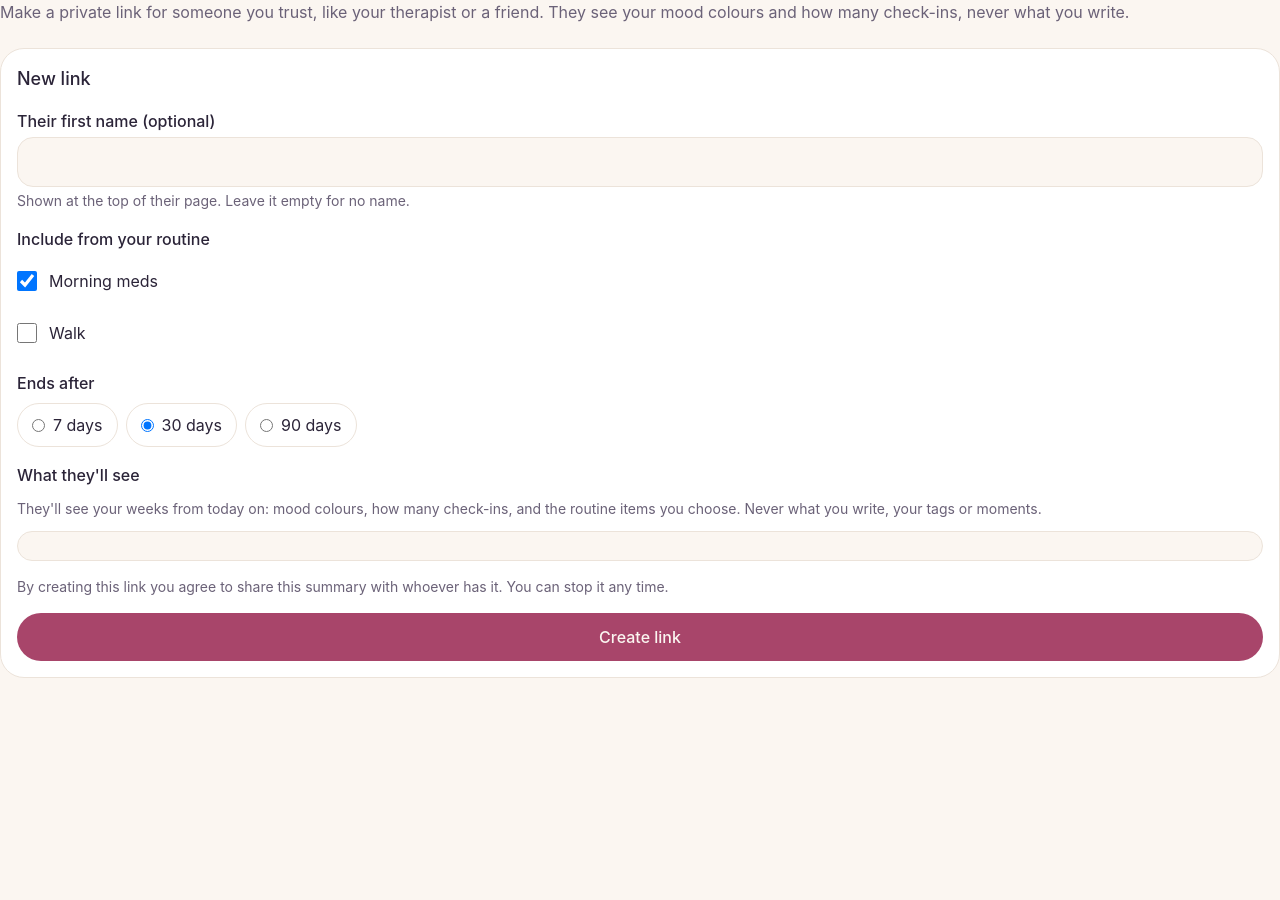
Scenario: Me → Share your week › the limit reached at create time says so
This screenshot has width=1280, height=900.
Click the button with test id "share-create".
click(640, 637)  # box [17,613,1263,661]
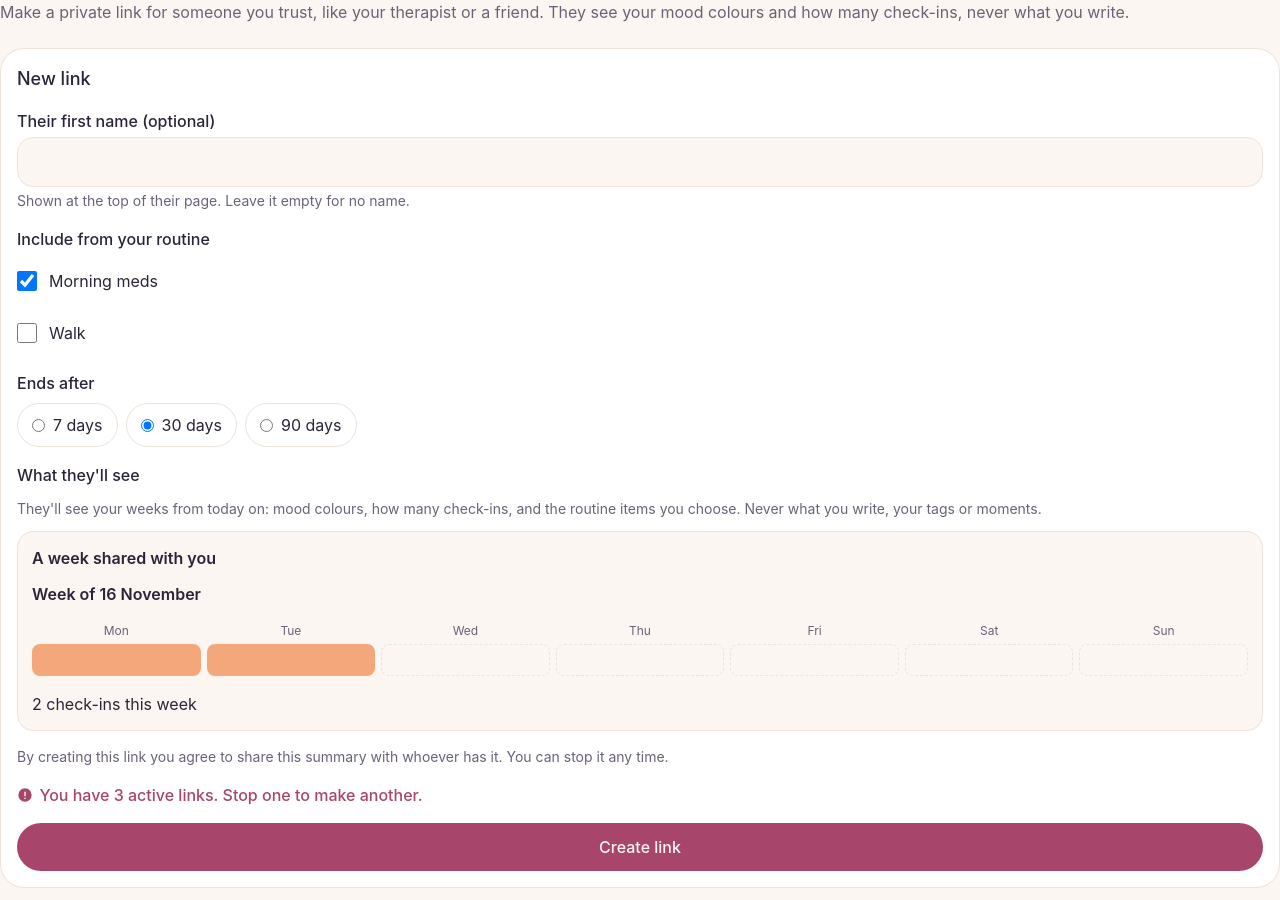
Check: the message with test id "share-error" reads "You have 3 active links. Stop one to make another.", box [39,785,423,805]
